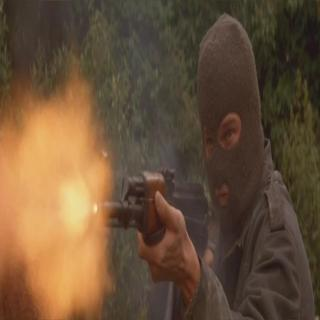gun: (92, 166, 216, 265)
